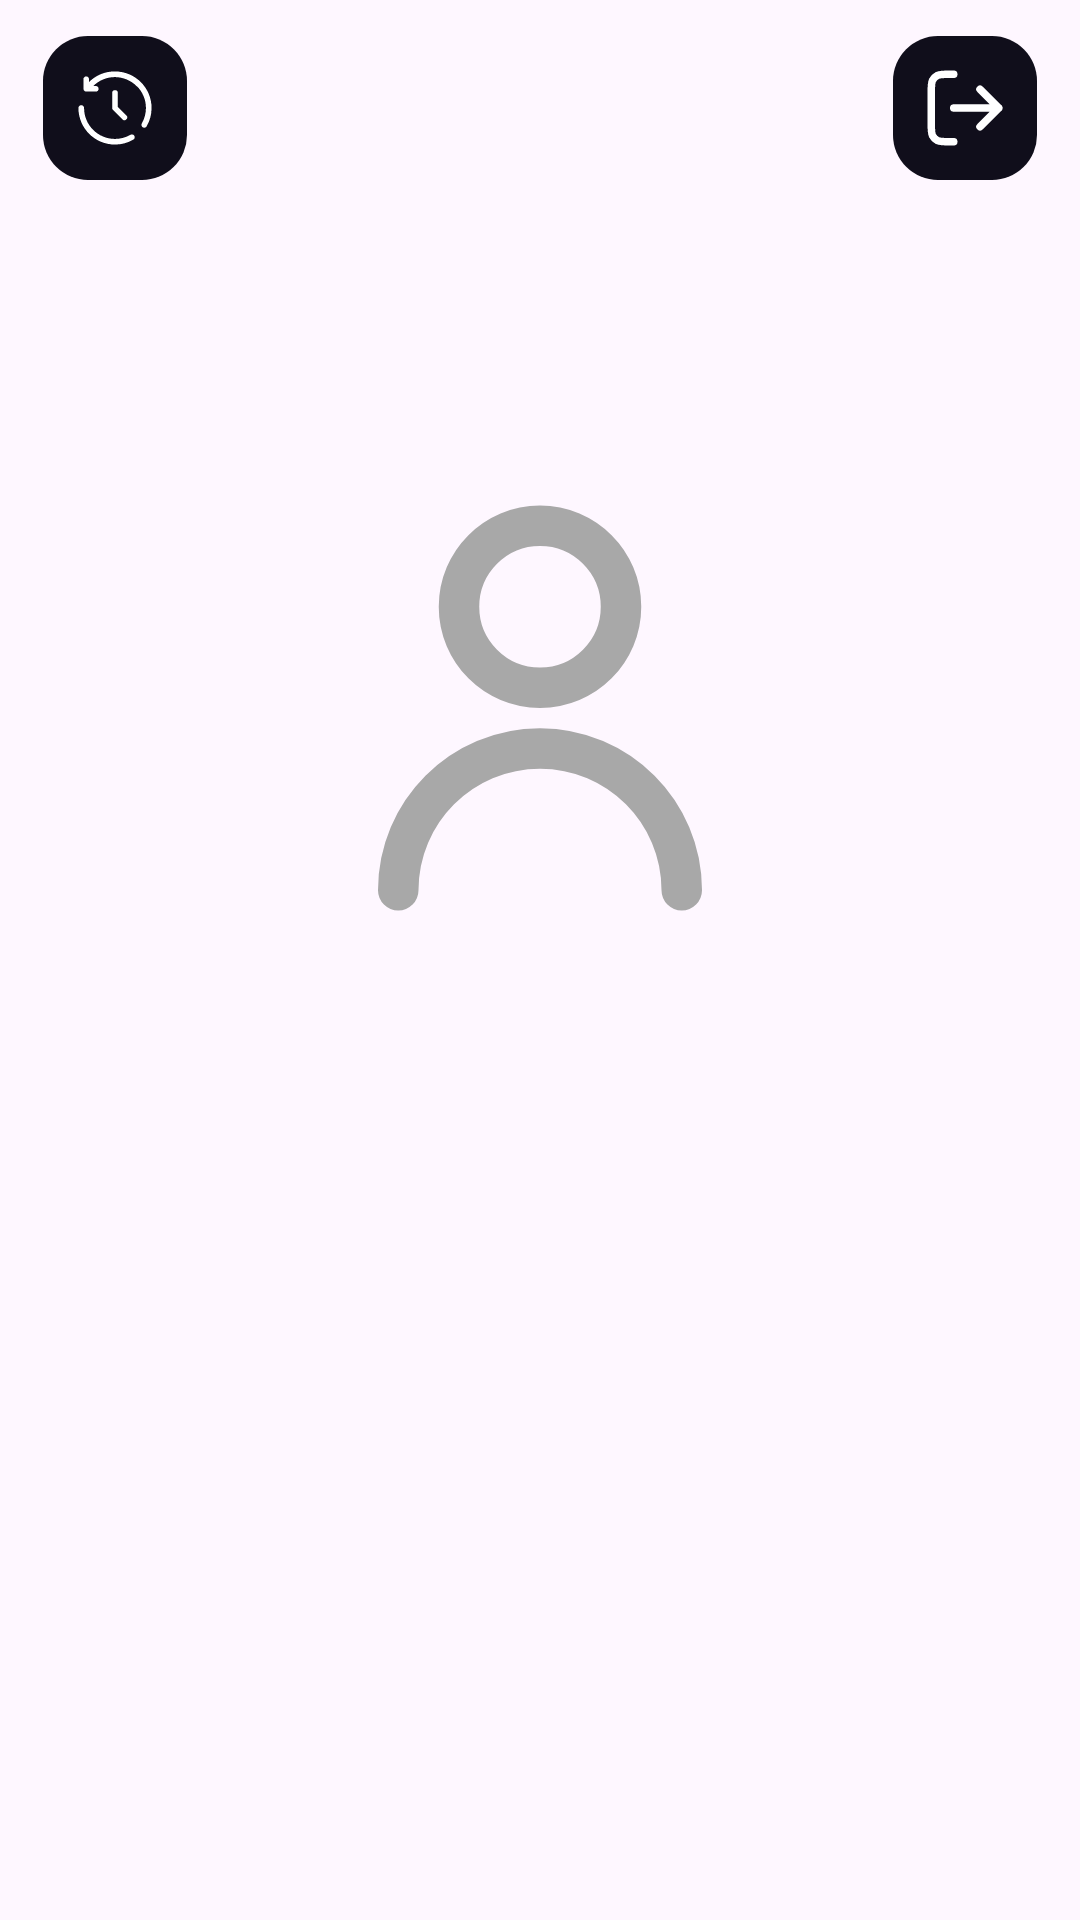

Named icons in this screenshot (1080px x 1920px) and their centers, point (x, y):
history: point (115, 108)
log out: point (965, 108)
